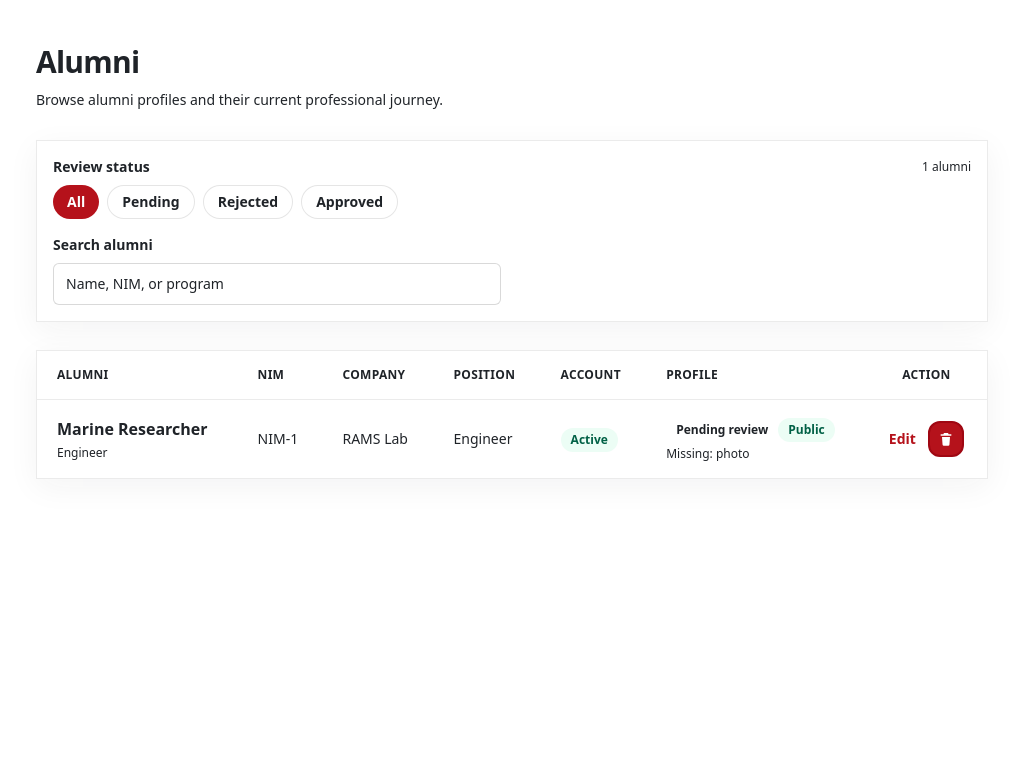
Test case: Alumni list › confirms and deletes the selected alumni
The width and height of the screenshot is (1024, 768).
Check: the text "Marine Researcher" is shown, box [57,417,218,441]
Click the button named "Delete" at (946,439), box [928,421,964,457]
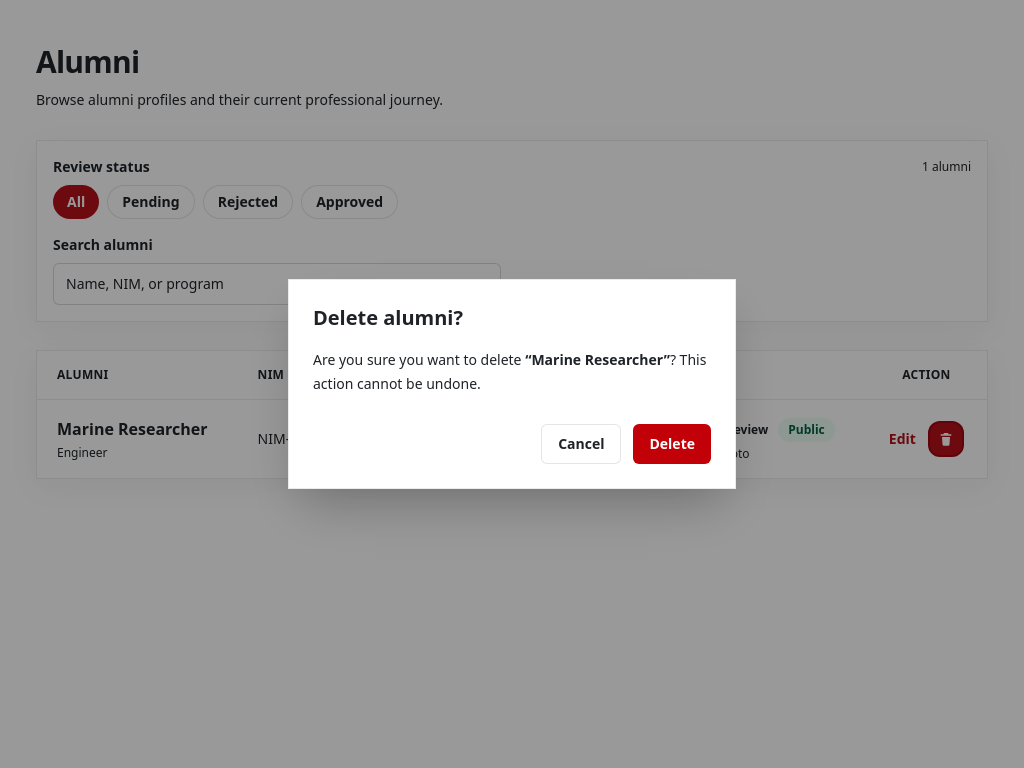
Check: the dialog shows "Marine Researcher", box [531,350,664,369]
Click the button "Delete" at (672,444), box [634,424,711,464]
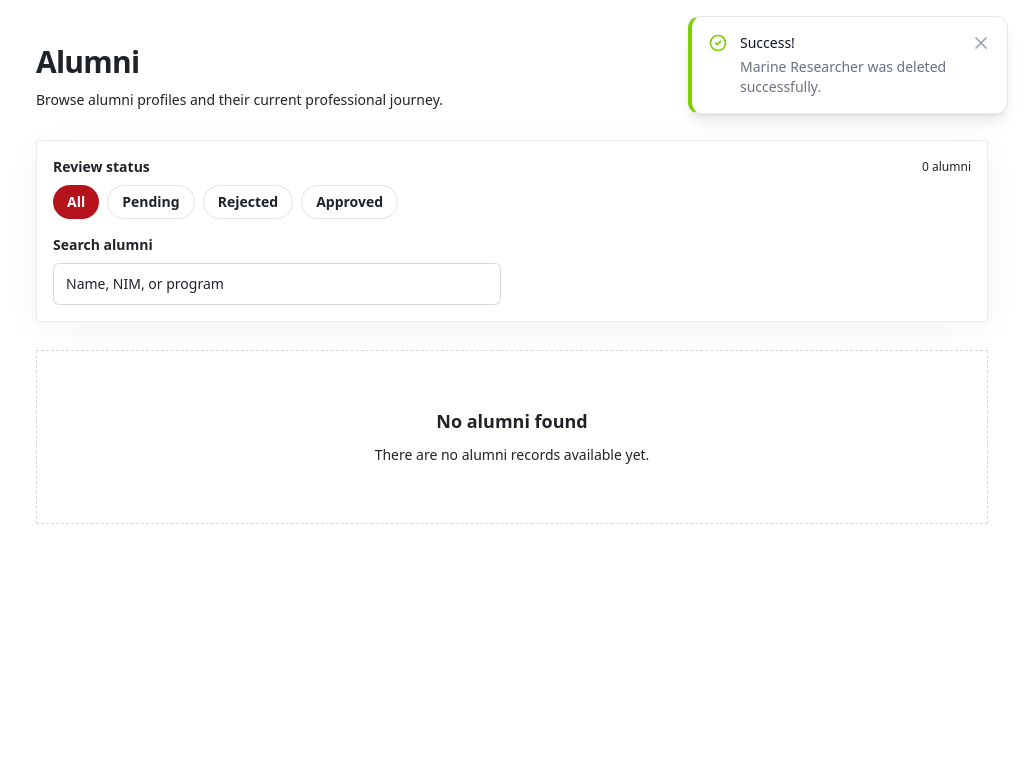
Check: the message shows "Marine Researcher was deleted successfully.", box [740,57,946,96]
